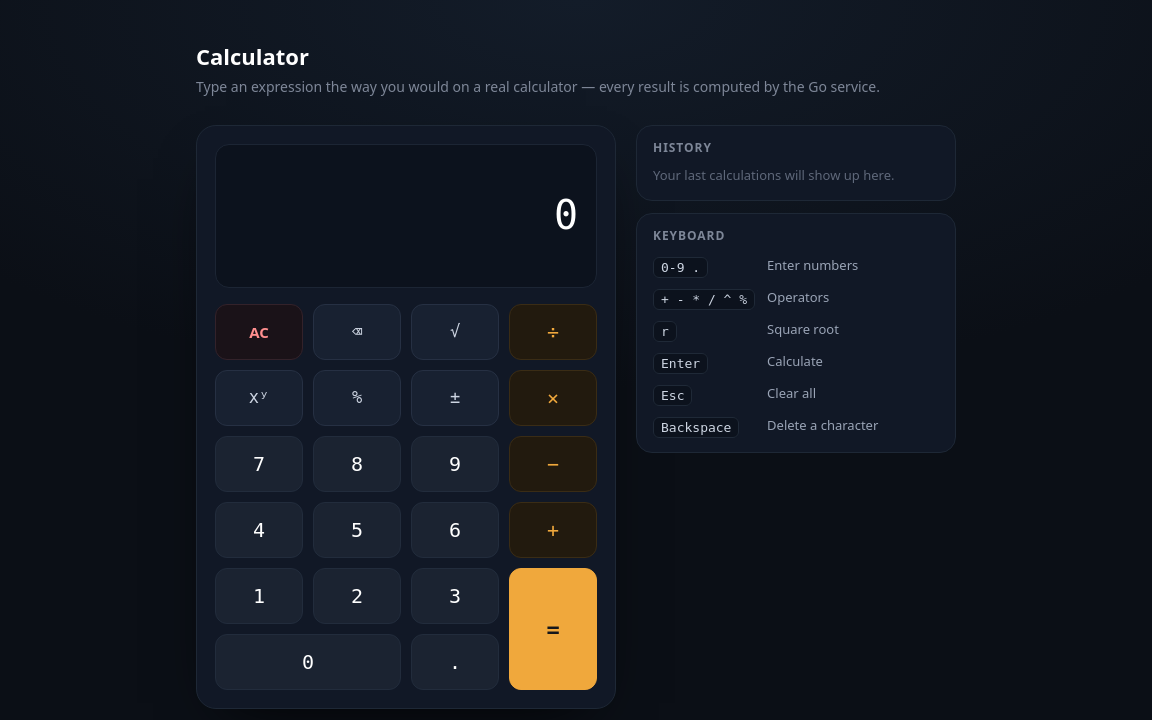
it: calculating › shows the elapsed time of the last calculation
Click the button "2".
click(357, 596)  # box [313, 568, 401, 624]
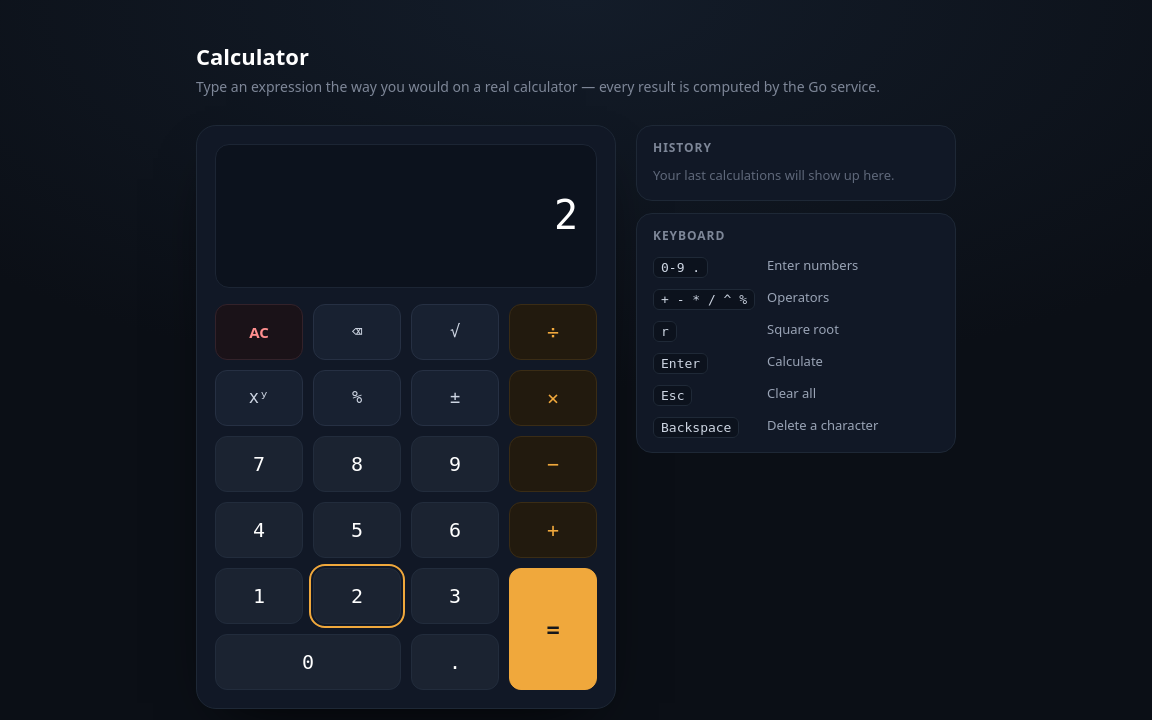
Click the button named "Add".
click(553, 530)  # box [509, 502, 597, 558]
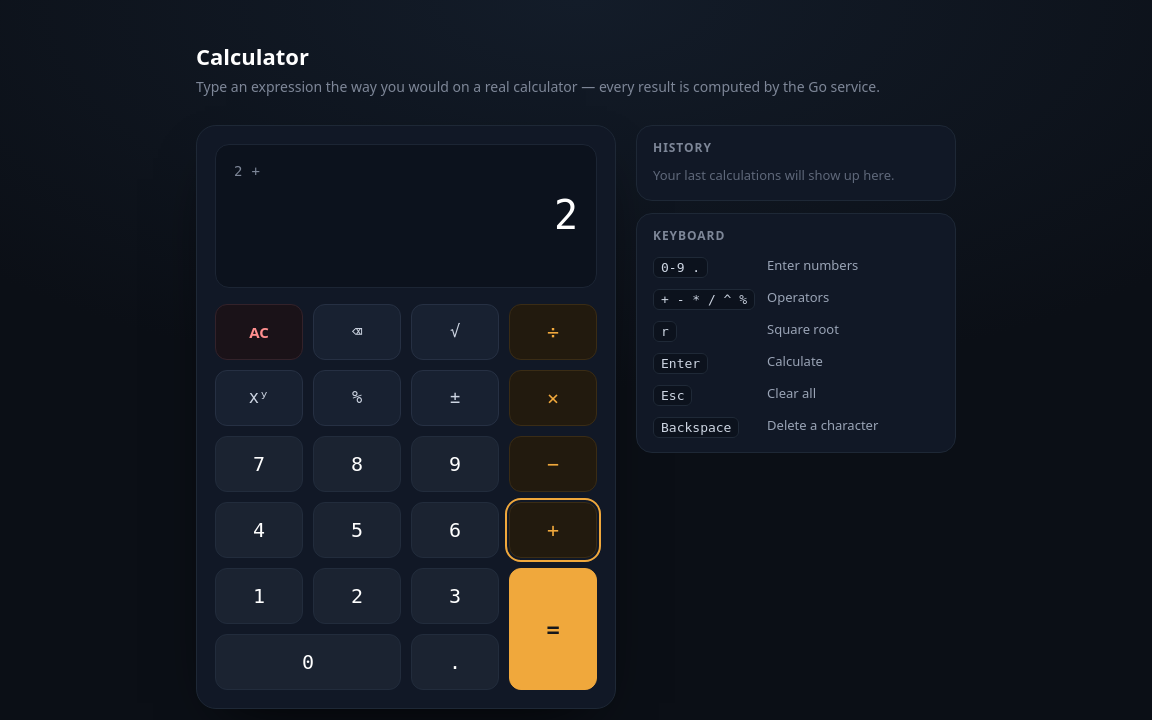
Click the button "2".
click(357, 596)  # box [313, 568, 401, 624]
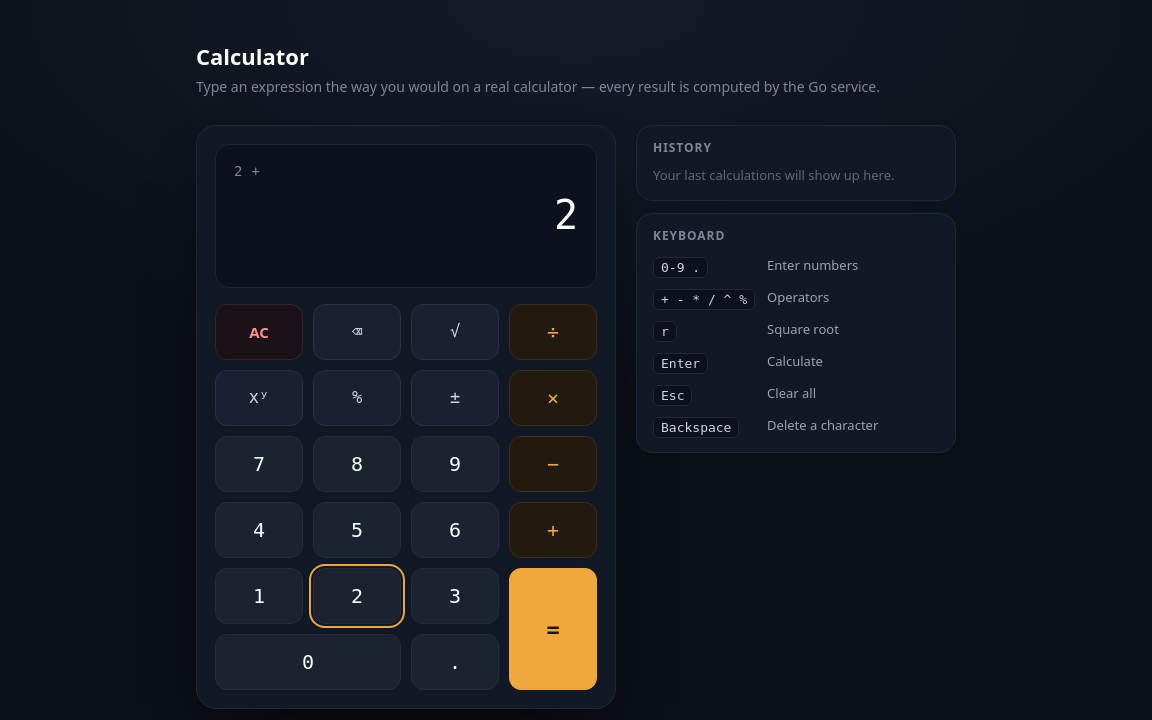
Click the button named "Calculate".
click(553, 629)  # box [509, 568, 597, 690]
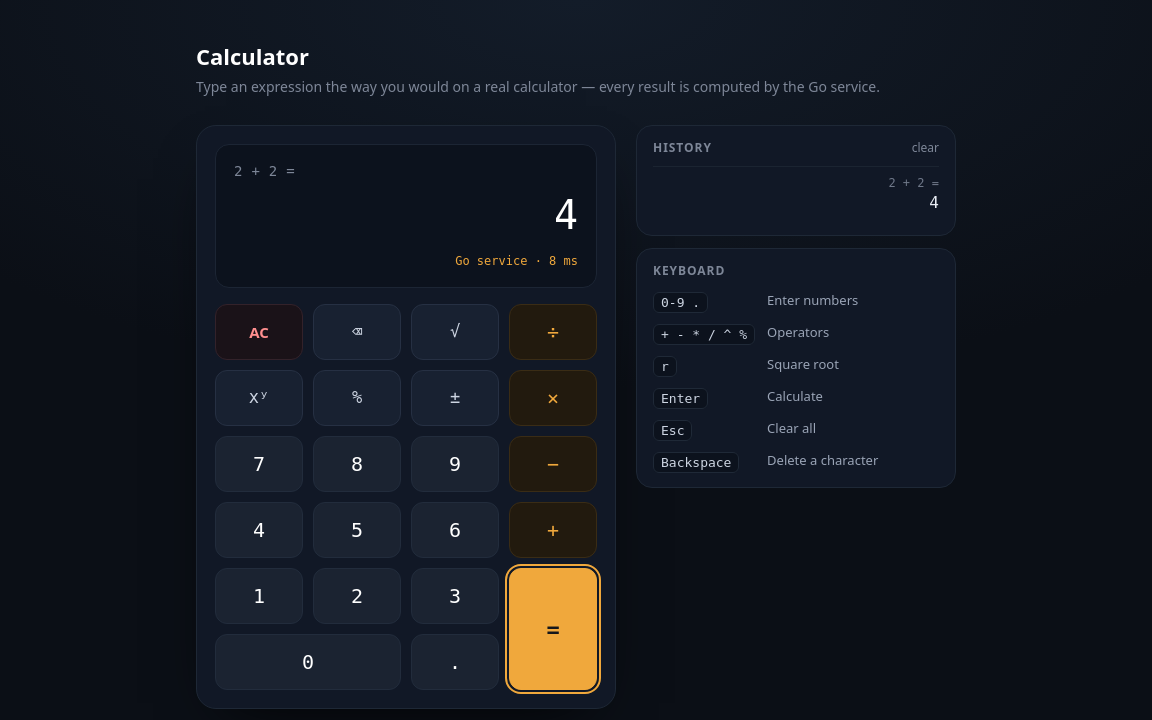
Expected: the element showing "2 + 2 = 4 Go service · 8 ms" is shown, [215, 144, 597, 288]
